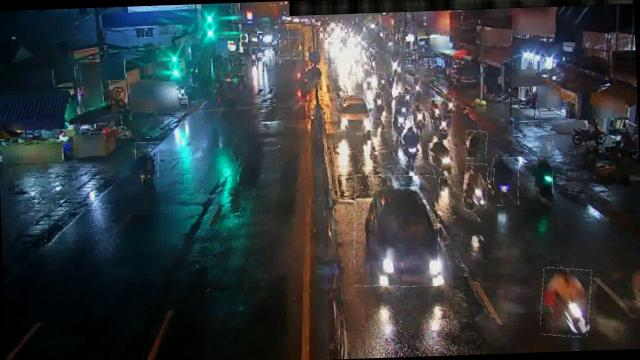Bike: (540, 267, 592, 338), (492, 157, 520, 206), (462, 163, 488, 210), (429, 140, 456, 178), (136, 142, 160, 184), (534, 159, 554, 201), (400, 127, 422, 165), (570, 124, 606, 144), (465, 130, 487, 159), (408, 112, 430, 136), (397, 94, 412, 120), (428, 99, 442, 123), (394, 106, 408, 130), (372, 92, 385, 116), (440, 96, 455, 115), (438, 114, 452, 133), (412, 77, 422, 96), (378, 72, 387, 88)
Car: (352, 173, 442, 288), (329, 96, 372, 132)
